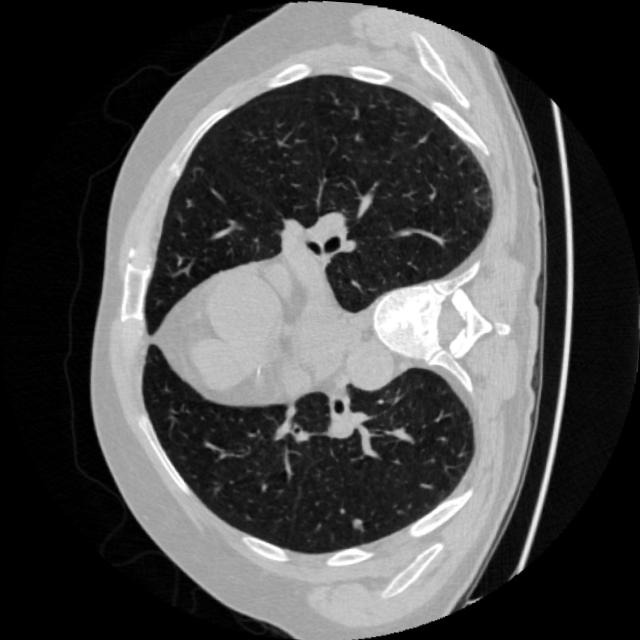nodule: (344, 511, 368, 534)
